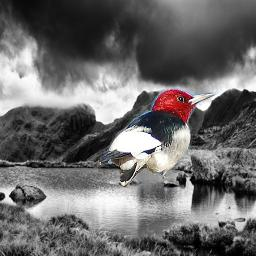Woodpecker: (98, 88, 218, 188)
